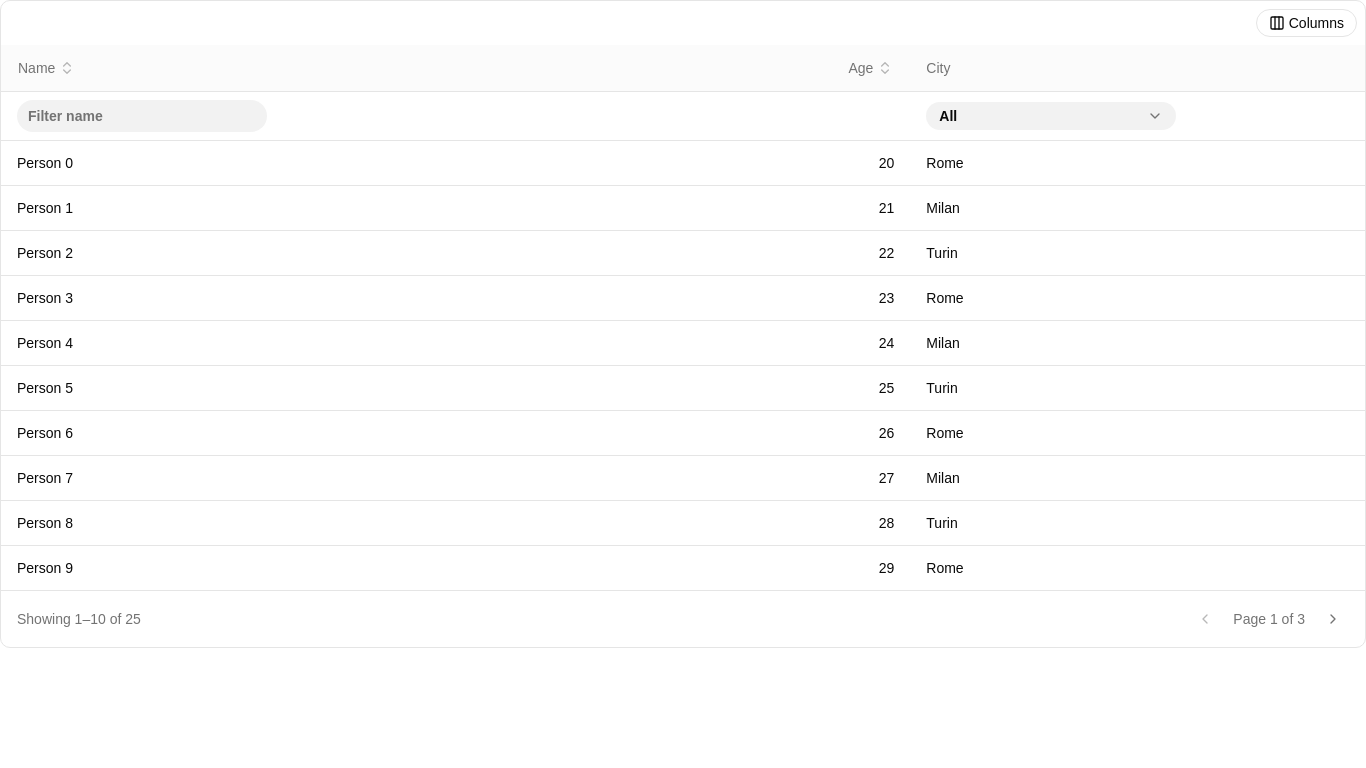
Test case: DataGrid — pagination › navigates to the next page
Click the button named "next page" at (1333, 619), box 1317,603 -> 1349,635
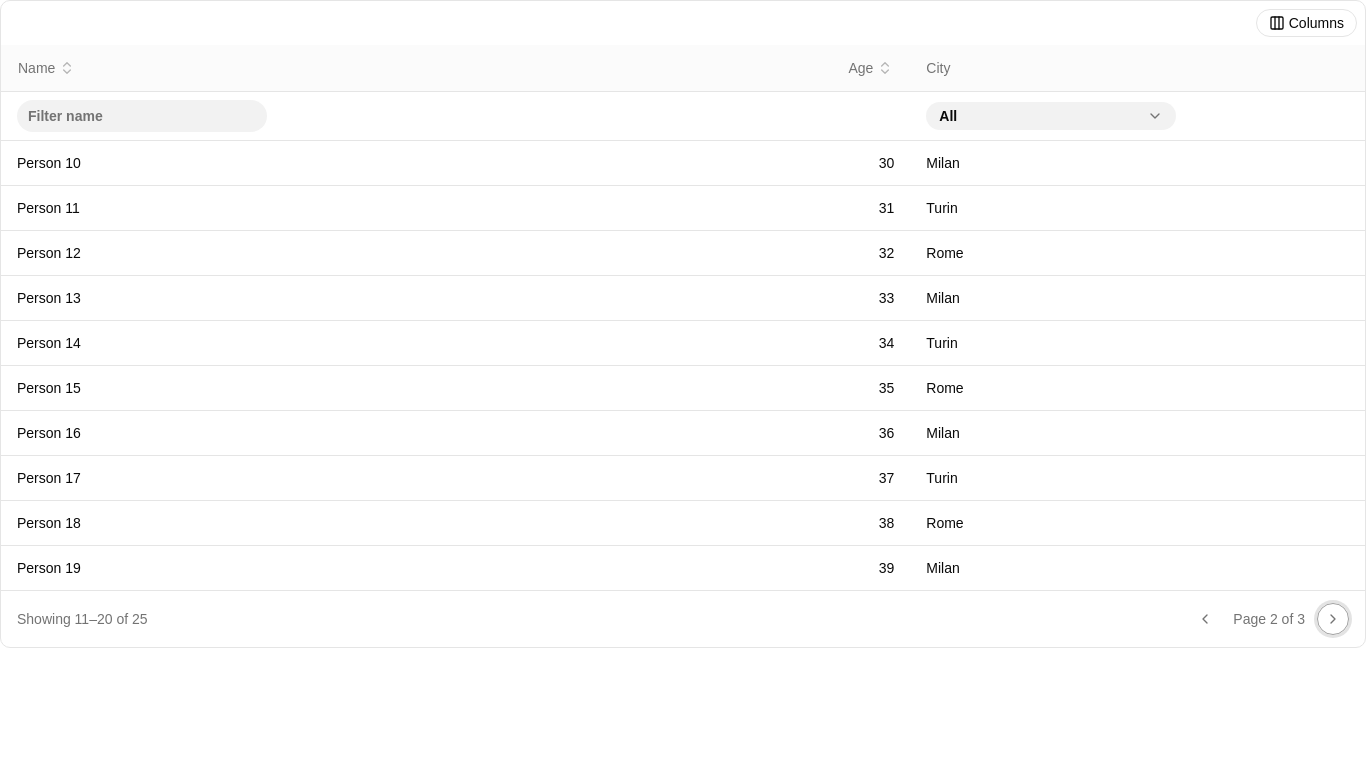
Check: the text "Person 10" is shown, box 1,140 -> 456,186
Check: the text "Person 0" is gone
Check: the text "Page 2 of 3" is shown, box 1233,609 -> 1305,629
